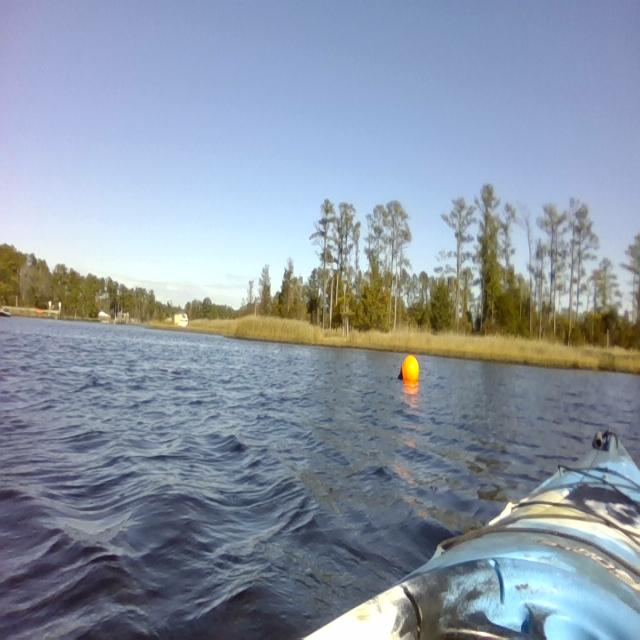Buoy: (391, 348, 431, 394)
